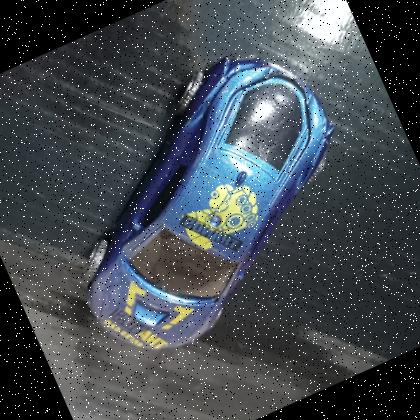Car: (8, 14, 404, 382)
